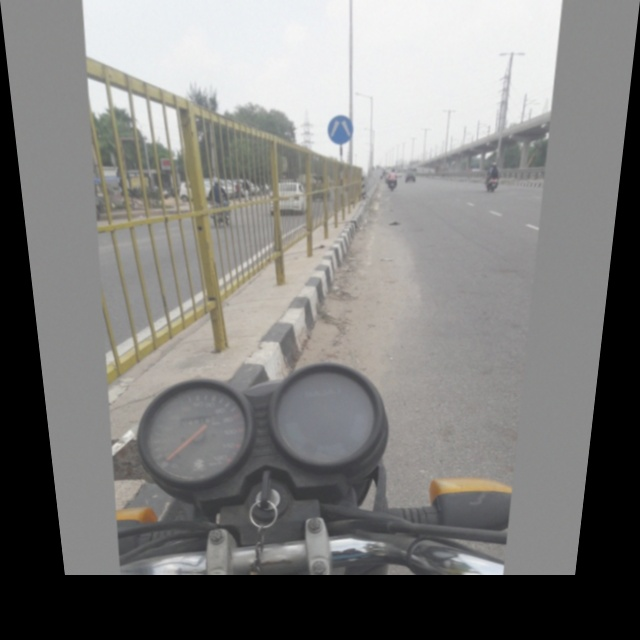Pass_Either_Side: (326, 109, 356, 150)
